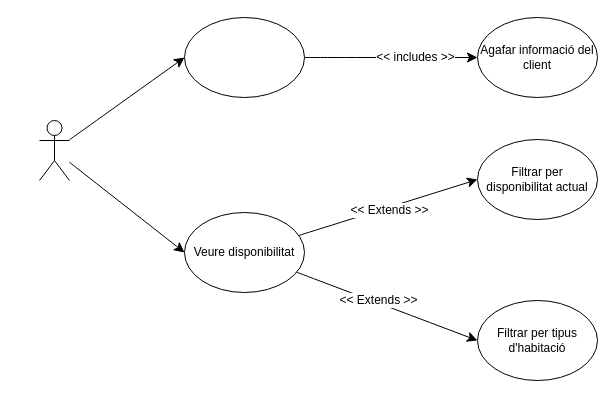
This 615x398 diagram has some shape labels left out. The centre of each missing label's shape, as x and y in pixels:
"Agregar reserva" belongs at (244,57).
"Recepcionista" belongs at (54,150).
